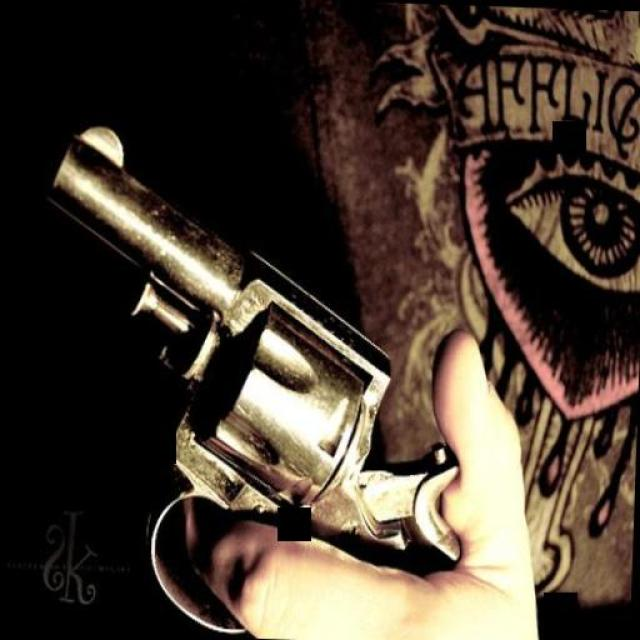gun: (26, 107, 472, 640)
